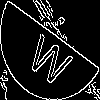W: (25, 25, 78, 89)
